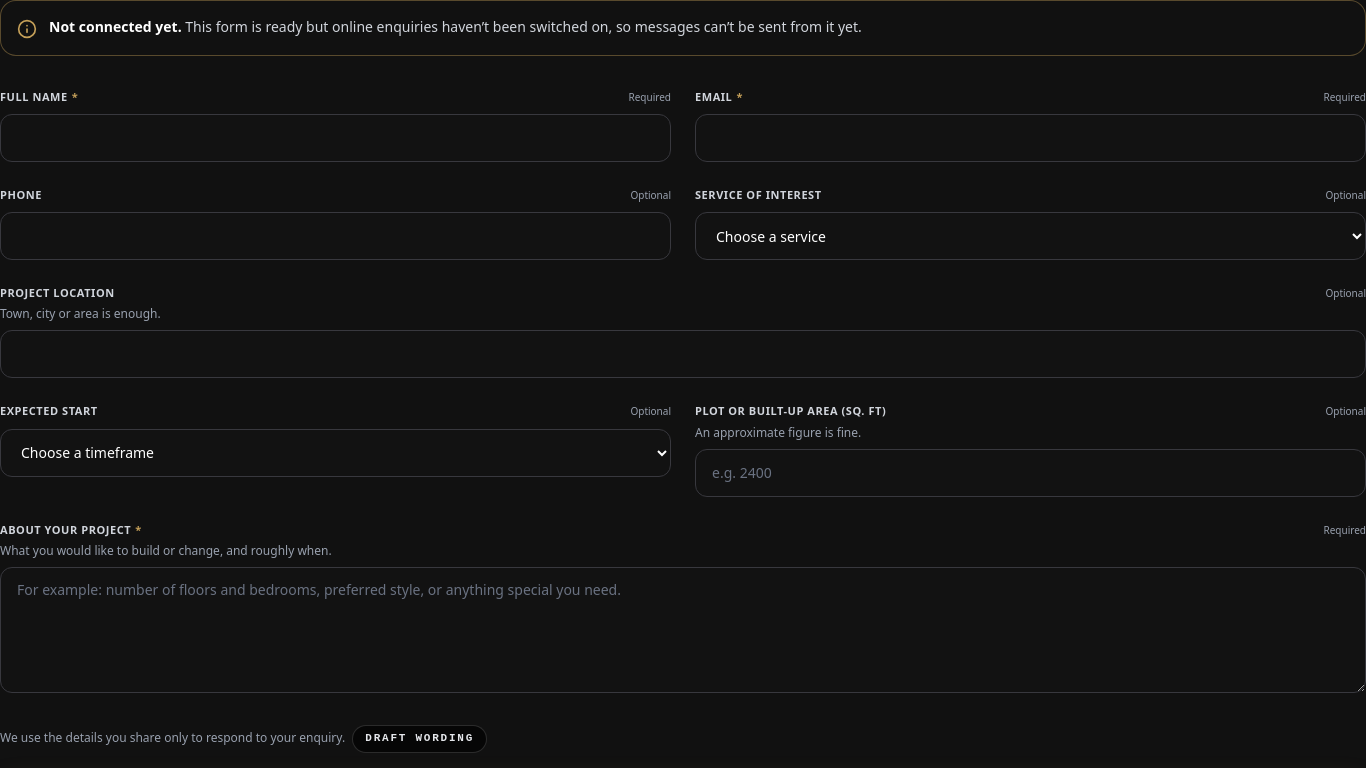
enquiry form › never pretends to send when no provider is configured, and keeps the values
This screenshot has width=1366, height=768.
Check: the text "Not connected yet." is shown, box [49,17,182,36]
Type "Alex Example" into the field labelled "Full name* Required" at [336, 138], box [0,114,671,162]
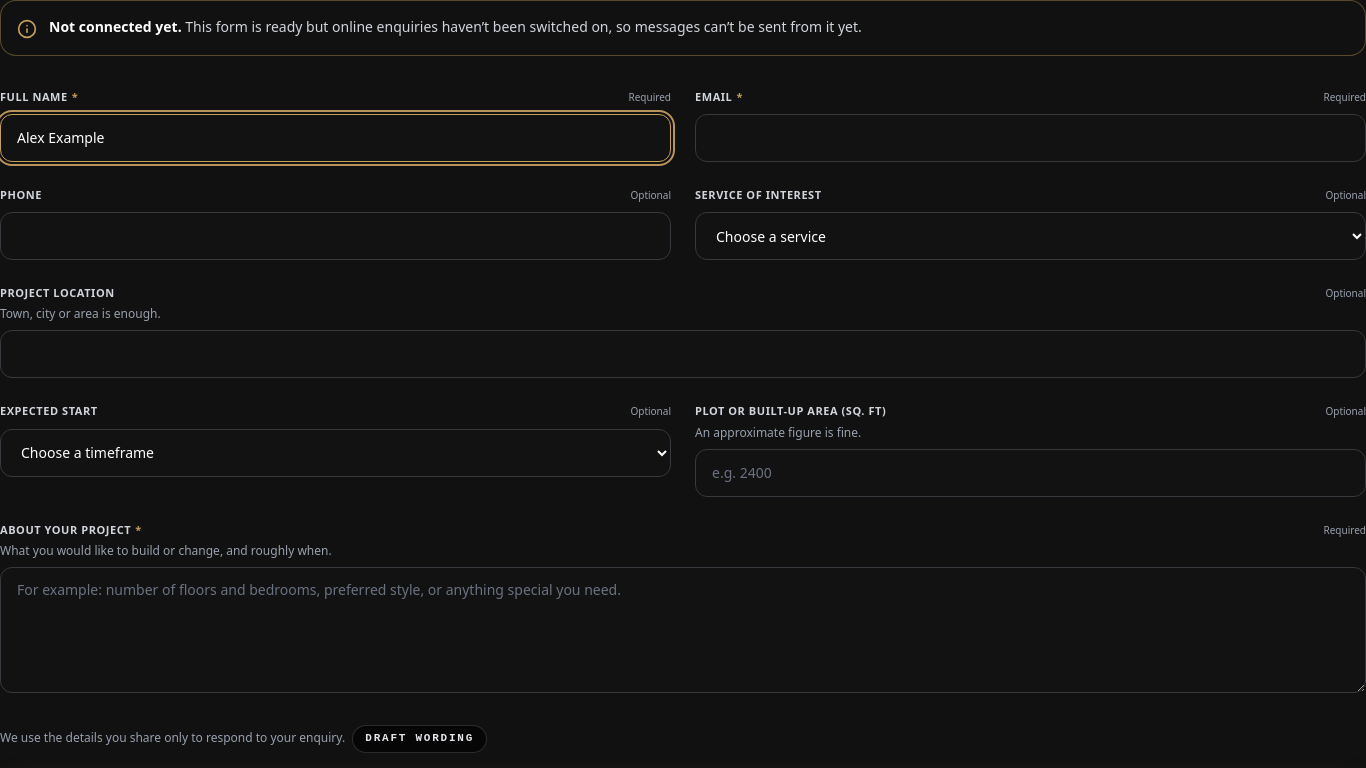
Type "alex@example.com" into the field labelled "Email* Required" at [1030, 138], box [695,114,1365,162]
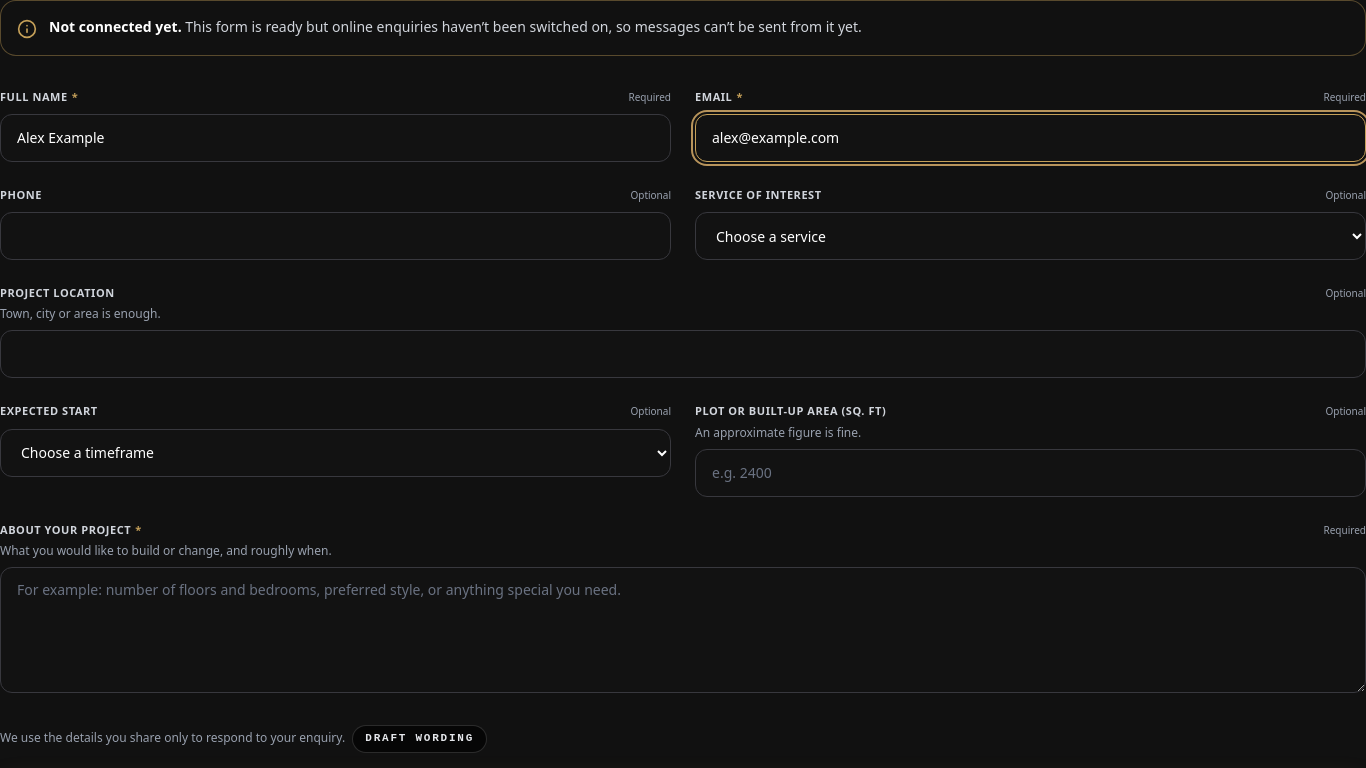
Type "A two-storey home on an existing plot." into the text box labelled "About your project* Required" at [683, 630], box [0,567,1365,693]
(page scrolled)
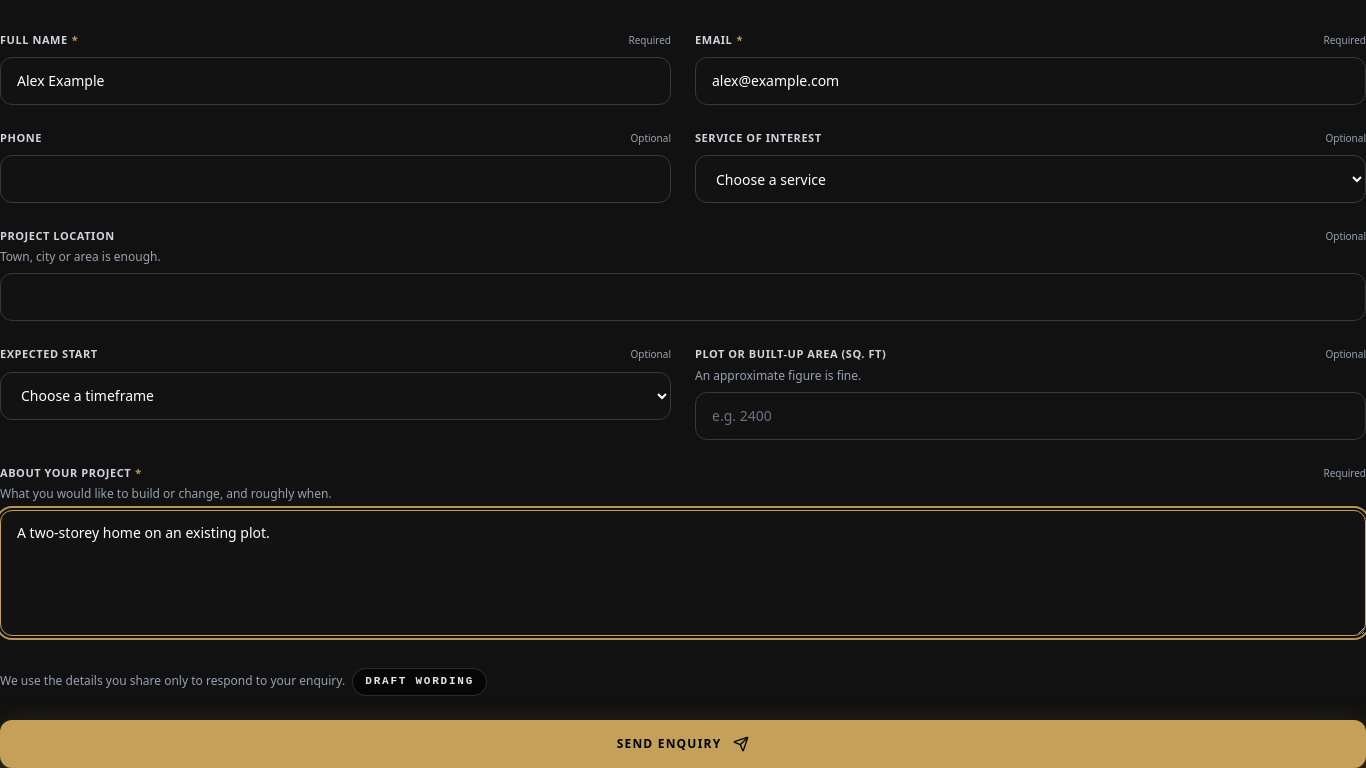
Click the button "Send enquiry" at [683, 744], box [0,720,1365,767]
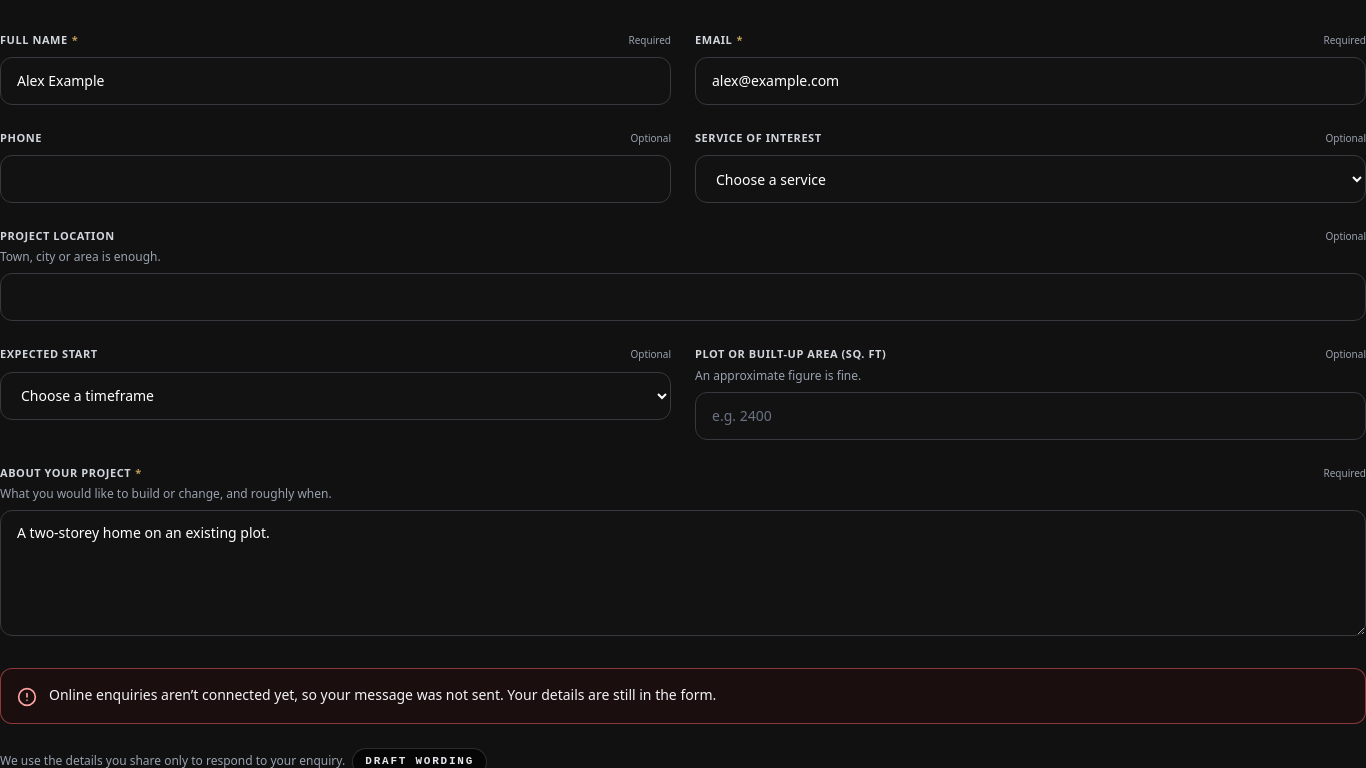
Check: the message shows "your message was not sent", box [49,685,716,704]
